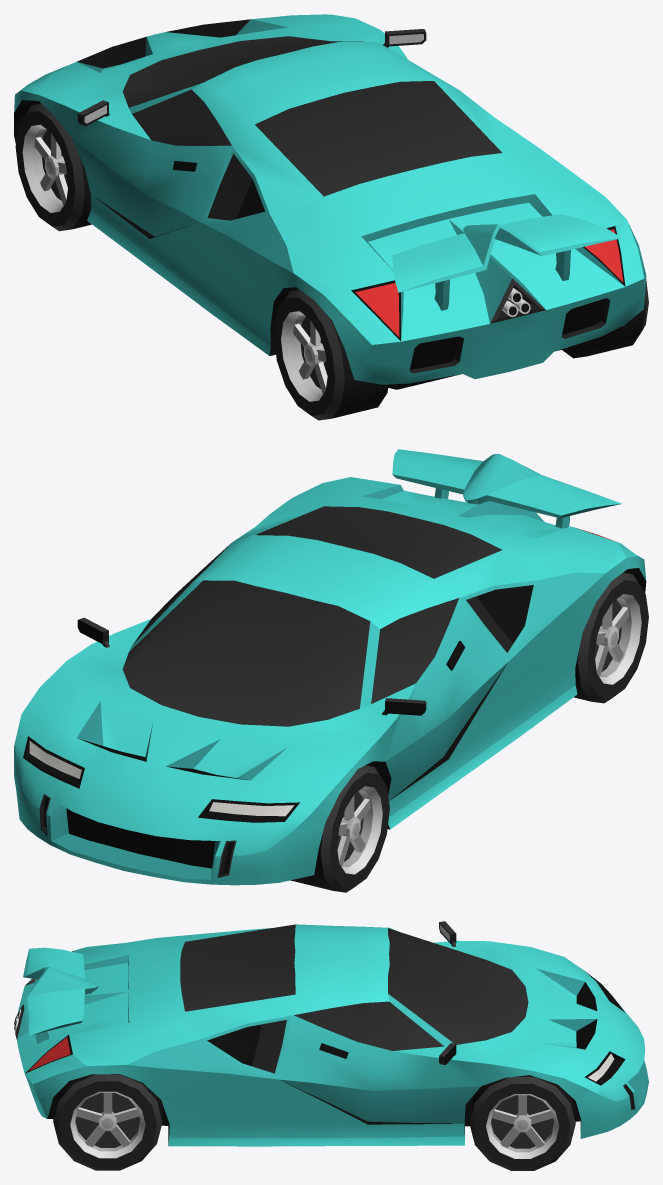
File: Car_31.fbx
3 views of the same model, one above another, from view 1: azimuth 30°, elevation 25°; view 2: azimuth 150°, elevation 25°; view 3: azimuth 270°, elevation 25° (orthographic). The views are drawn at different scales.
Visible parts, largest first — view 1: Car_31, Car_31_Tire.002, Car_31_Tire.003, Car_31_Tire; view 2: Car_31, Car_31_Tire.002, Car_31_Tire.003; view 3: Car_31, Car_31_Tire, Car_31_Tire.001.
Part boxes in pixels (bbox=[...]): Car_31: bbox=[14, 14, 646, 389]; Car_31_Tire.002: bbox=[273, 289, 387, 420]; Car_31_Tire.003: bbox=[15, 103, 91, 231]; Car_31_Tire: bbox=[562, 278, 648, 358]; Car_31: bbox=[14, 449, 646, 885]; Car_31_Tire.002: bbox=[574, 572, 648, 703]; Car_31_Tire.003: bbox=[290, 765, 389, 892]; Car_31: bbox=[14, 921, 648, 1146]; Car_31_Tire: bbox=[53, 1074, 162, 1170]; Car_31_Tire.001: bbox=[469, 1075, 575, 1170].
Bounding box in the file's own units: 2.21 × 1.22 × 4.37.
